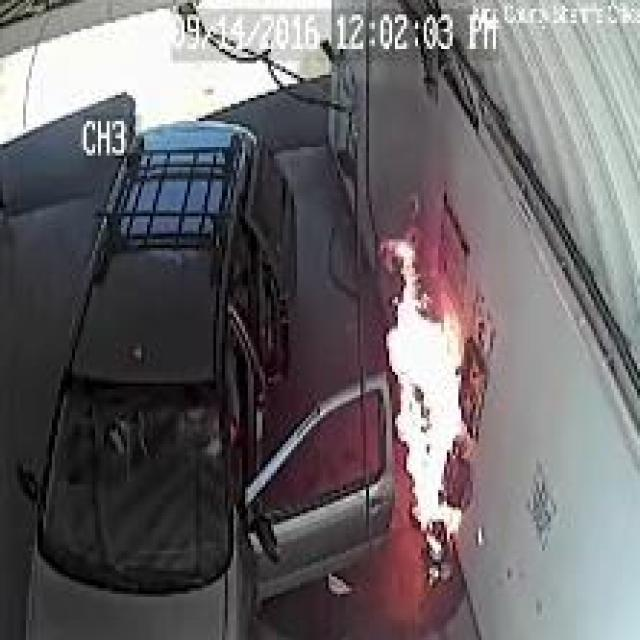smoke: (374, 225, 476, 568)
